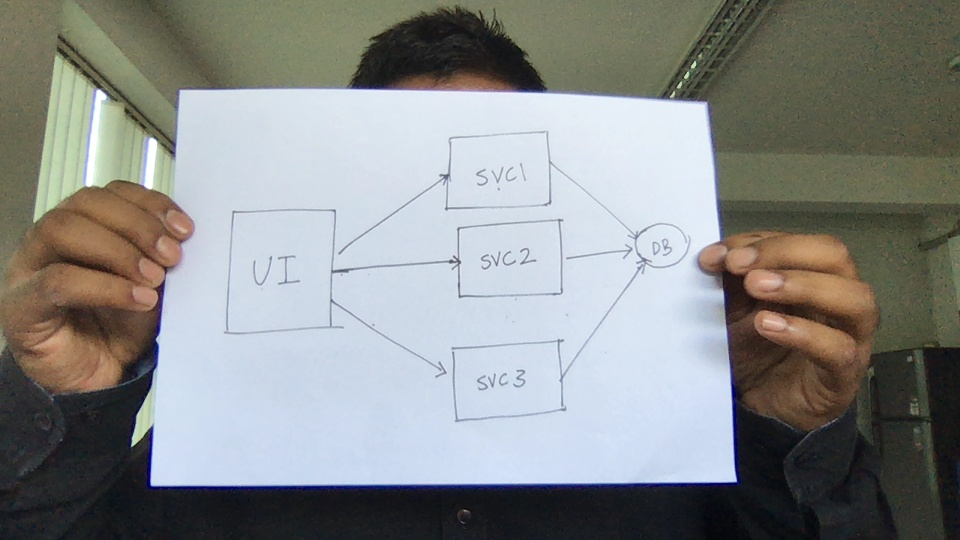db: (631, 216, 692, 274)
ec2: (442, 126, 557, 212), (451, 216, 566, 302), (450, 337, 565, 423)
ui: (219, 202, 342, 338)
